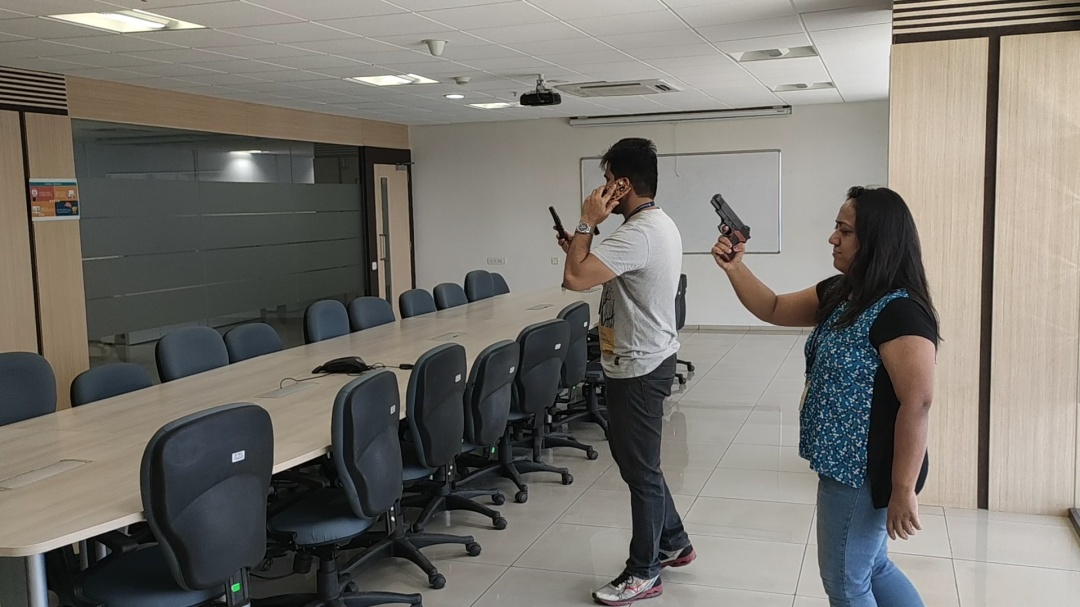gun: (709, 193, 752, 262)
